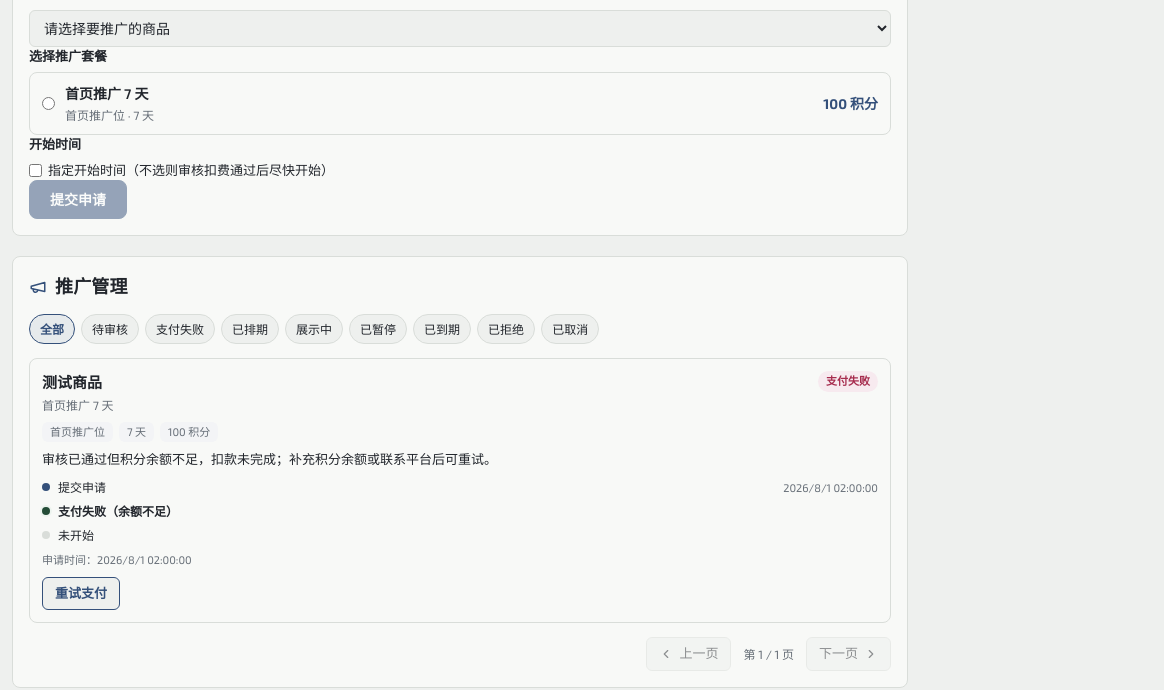
Test: merchant promotion mobile completions › uses the returned payment_failed state after retry instead of assuming HTTP success means charged
(page scrolled)
Click the button "重试支付": (81, 593) [42,576,120,610]
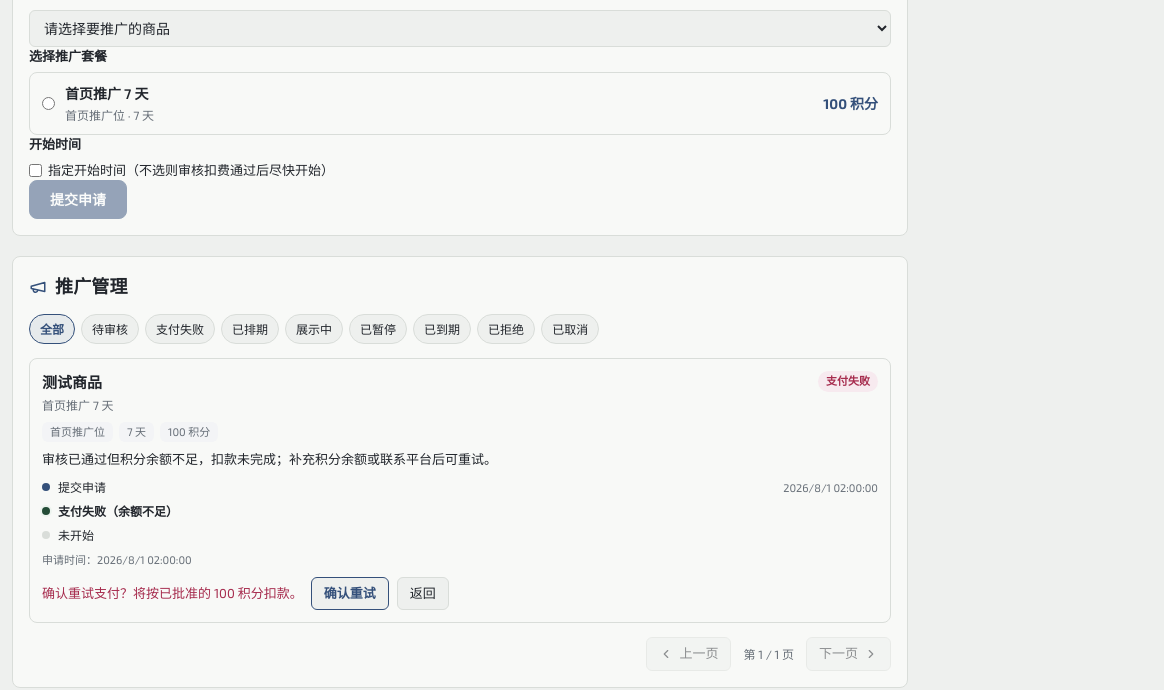
Check: the text "确认重试支付？将按已批准的 100 积分扣款。" is shown, box [42,584,303,603]
Click the button "确认重试": (350, 593) [311,576,389,610]
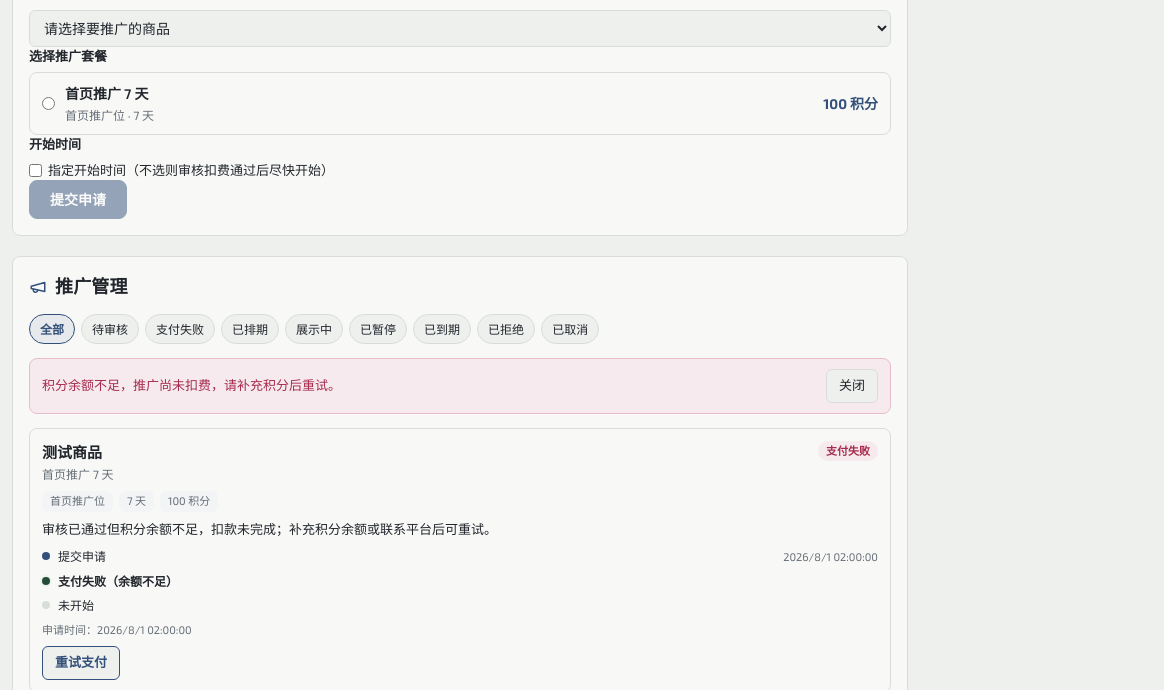
Check: the message shows "推广尚未扣费", box [42,377,341,393]
